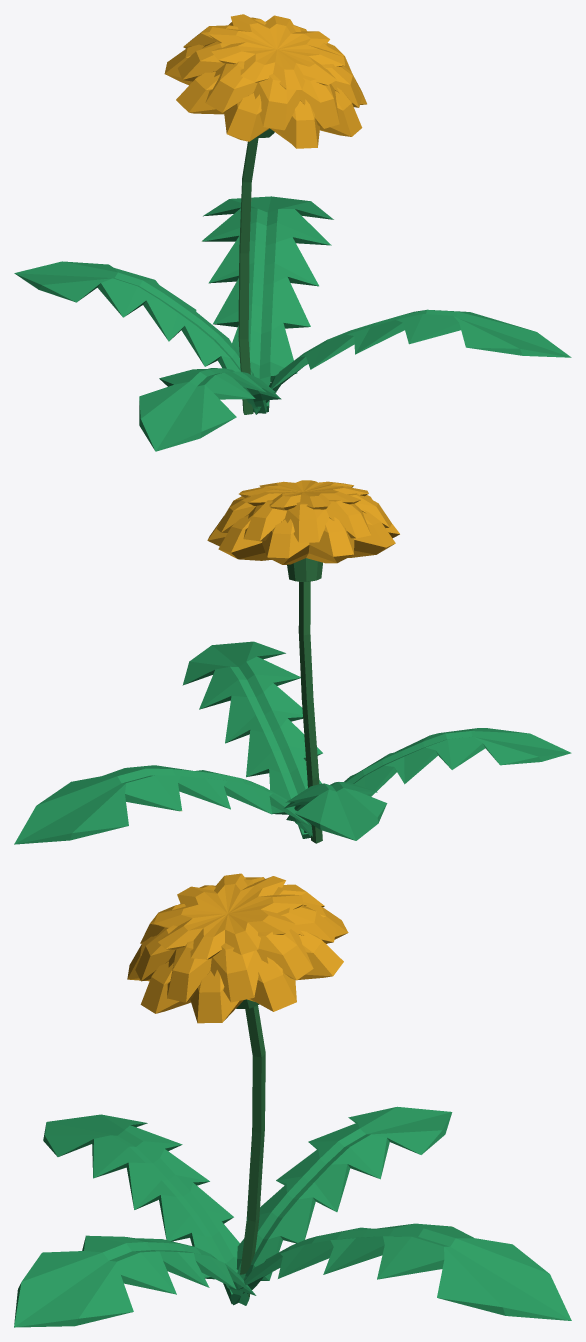
The model's file is 3D_Model_Dandelion_LP_v1.fbx.
3 renders of one model, top to bottom at view 1: azimuth 30°, elevation 25°; view 2: azimuth 150°, elevation 25°; view 3: azimuth 270°, elevation 25°, orthographic. The views are drawn at different scales.
Visible parts, largest first — view 1: dandelion_01; view 2: dandelion_01; view 3: dandelion_01.
Part boxes in pixels (x1,y1,x2,y2): dandelion_01: (14,14,571,451); dandelion_01: (14,480,571,844); dandelion_01: (14,873,571,1327).
Size of the model in its own units: 187 by 168 by 207.
